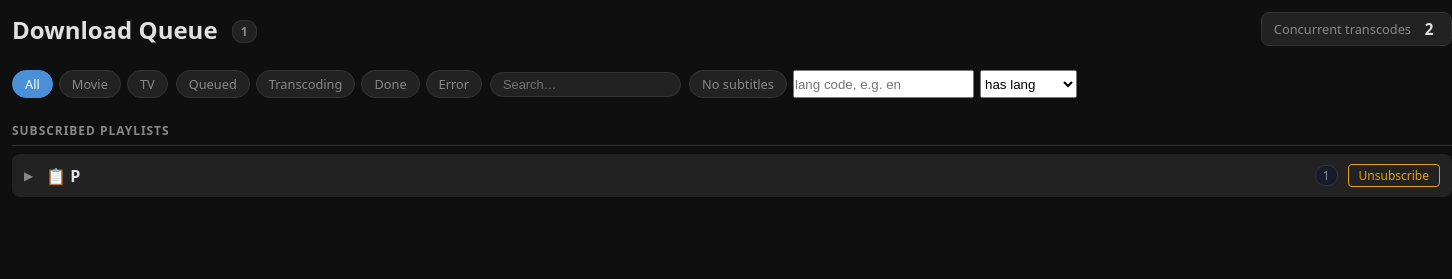
Test case: QueueView › TRANSCODING item shows progress bar
What coordinates should you click on to do the following:
click the element with test id "group-header-playlist-5"
I would click on:
 (732, 176)
Its box is [12,154,1451,197].
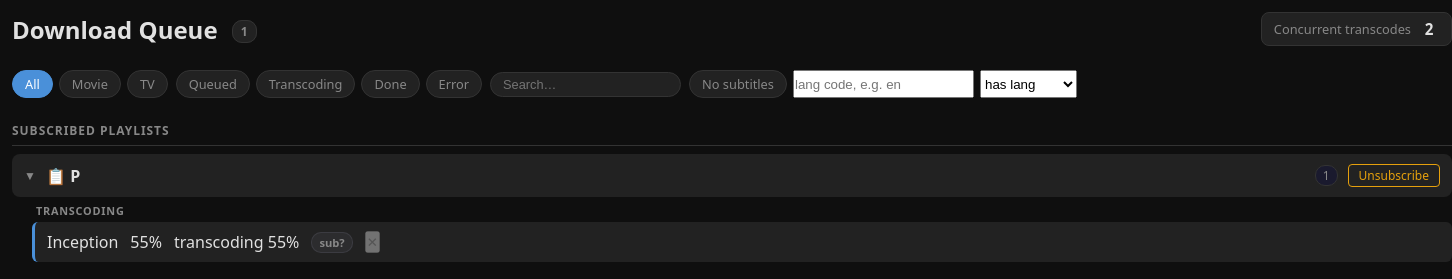
Result: the text "55%" is shown at [130,231,162,253]
